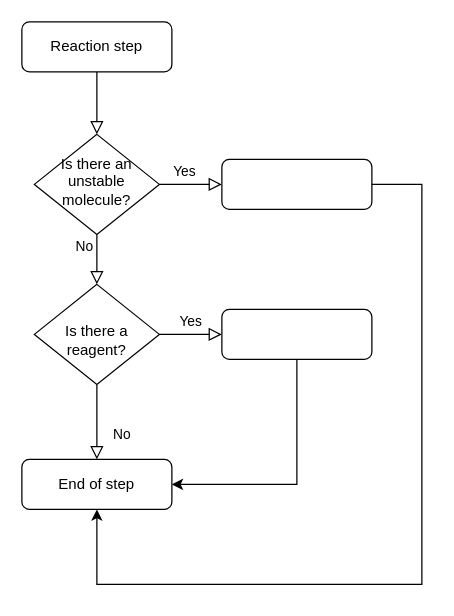
Some shapes in this 454 by 616 pixel diagram are drawn without their labels. The centre of each missing label's shape, as x and y in pixels:
Modify molecule until it is stable: point 296,183
React reagent with substrate: point 296,333
